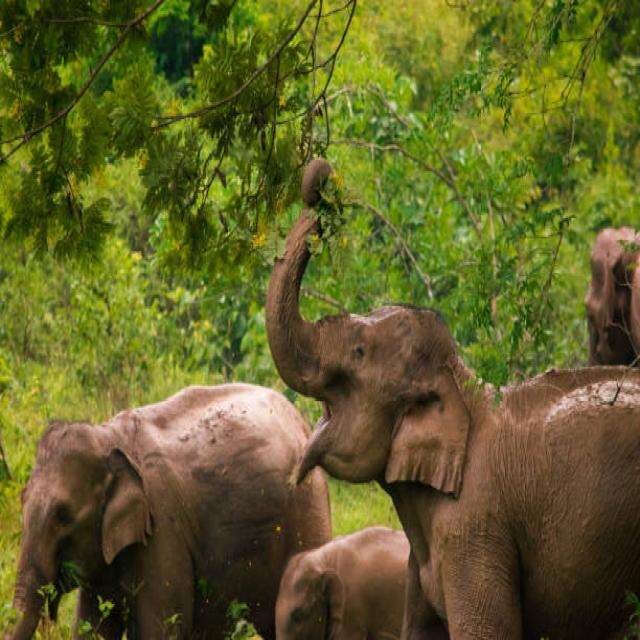Elephant: (273, 143, 640, 624), (279, 516, 423, 640), (572, 187, 637, 374)
